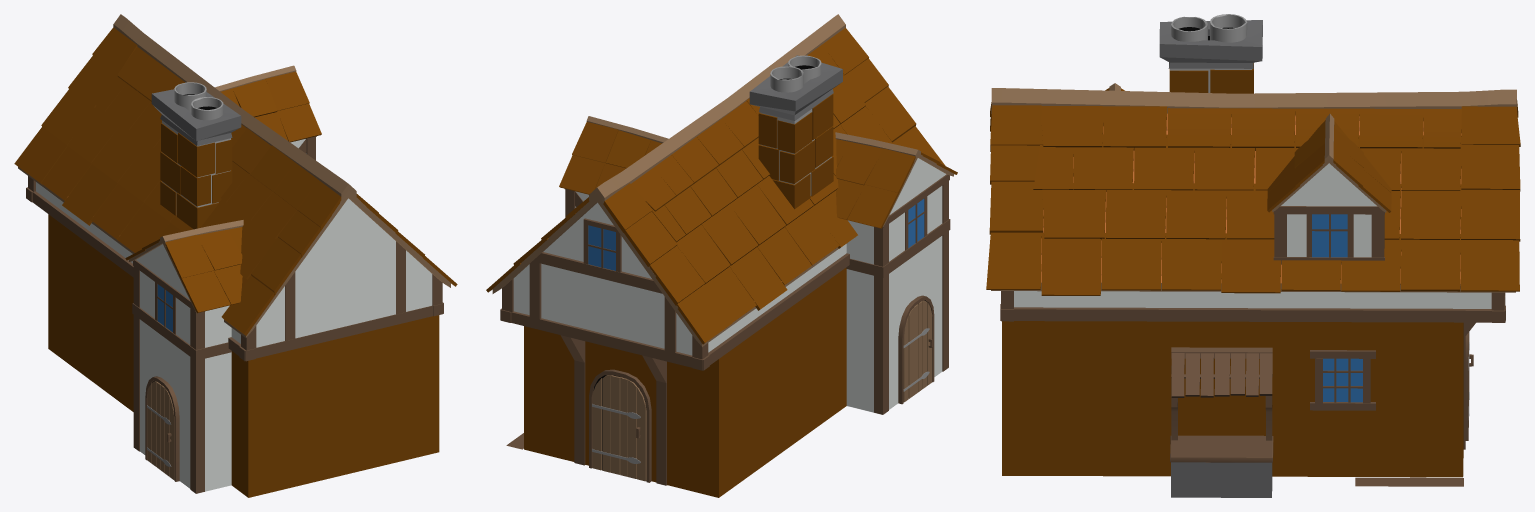
File: House8.fbx
3 renders of one model, left to right at view 1: azimuth 30°, elevation 25°; view 2: azimuth 150°, elevation 25°; view 3: azimuth 270°, elevation 25°, orthographic. The views are drawn at different scales.
Visible parts, largest first — view 1: polySurface848, polySurface1085, polySurface1086, polySurface1115, polySurface898, polySurface1048, polySurface896, polySurface1016, polySurface1050, polySurface1011, polySurface1002, polySurface1049 (+44 smaller); view 2: polySurface848, polySurface1085, polySurface1048, polySurface1087, polySurface1115, polySurface897, polySurface896, polySurface1016, polySurface1050, polySurface1002, polySurface1001, polySurface1049 (+59 smaller); view 3: polySurface848, Group054_Smithy001_polySurface879, polySurface895, polySurface910, polySurface1009, polySurface1007, polySurface1115, polySurface1003, polySurface1008, polySurface1006, polySurface1029, polySurface1010 (+42 smaller).
Boxes of the visible parts, x1=… form: polySurface848: x1=18, y1=14, x2=450, y2=497; polySurface1085: x1=129, y1=239, x2=231, y2=491; polySurface1086: x1=190, y1=308, x2=204, y2=493; polySurface1115: x1=151, y1=89, x2=241, y2=214; polySurface898: x1=239, y1=302, x2=443, y2=360; polySurface1048: x1=118, y1=144, x2=174, y2=222; polySurface896: x1=27, y1=187, x2=255, y2=361; polySurface1016: x1=62, y1=164, x2=117, y2=225; polySurface1050: x1=92, y1=124, x2=146, y2=182; polySurface1011: x1=221, y1=276, x2=275, y2=335; polySurface1002: x1=14, y1=126, x2=67, y2=184; polySurface1049: x1=67, y1=106, x2=120, y2=163; polySurface848: x1=492, y1=14, x2=846, y2=497; polySurface1085: x1=846, y1=153, x2=953, y2=412; polySurface1048: x1=729, y1=176, x2=813, y2=245; polySurface1087: x1=874, y1=224, x2=888, y2=414; polySurface1115: x1=749, y1=55, x2=842, y2=195; polySurface897: x1=500, y1=308, x2=709, y2=370; polySurface896: x1=692, y1=253, x2=849, y2=370; polySurface1016: x1=729, y1=247, x2=787, y2=310; polySurface1050: x1=701, y1=204, x2=758, y2=265; polySurface1002: x1=676, y1=285, x2=732, y2=344; polySurface1001: x1=649, y1=246, x2=705, y2=305; polySurface1049: x1=676, y1=224, x2=730, y2=284; polySurface848: x1=991, y1=88, x2=1516, y2=486; Group054_Smithy001_polySurface879: x1=1170, y1=347, x2=1273, y2=497; polySurface895: x1=1000, y1=304, x2=1505, y2=322; polySurface910: x1=1272, y1=159, x2=1386, y2=257; polySurface1009: x1=1041, y1=232, x2=1101, y2=295; polySurface1007: x1=1221, y1=233, x2=1280, y2=293; polySurface1115: x1=1159, y1=20, x2=1262, y2=92; polySurface1003: x1=1401, y1=234, x2=1460, y2=291; polySurface1008: x1=1101, y1=233, x2=1161, y2=290; polySurface1006: x1=1161, y1=233, x2=1221, y2=290; polySurface1029: x1=1042, y1=183, x2=1105, y2=239; polySurface1010: x1=986, y1=232, x2=1041, y2=289.
Bounding box in the file's own units: 100 × 115 × 150.
